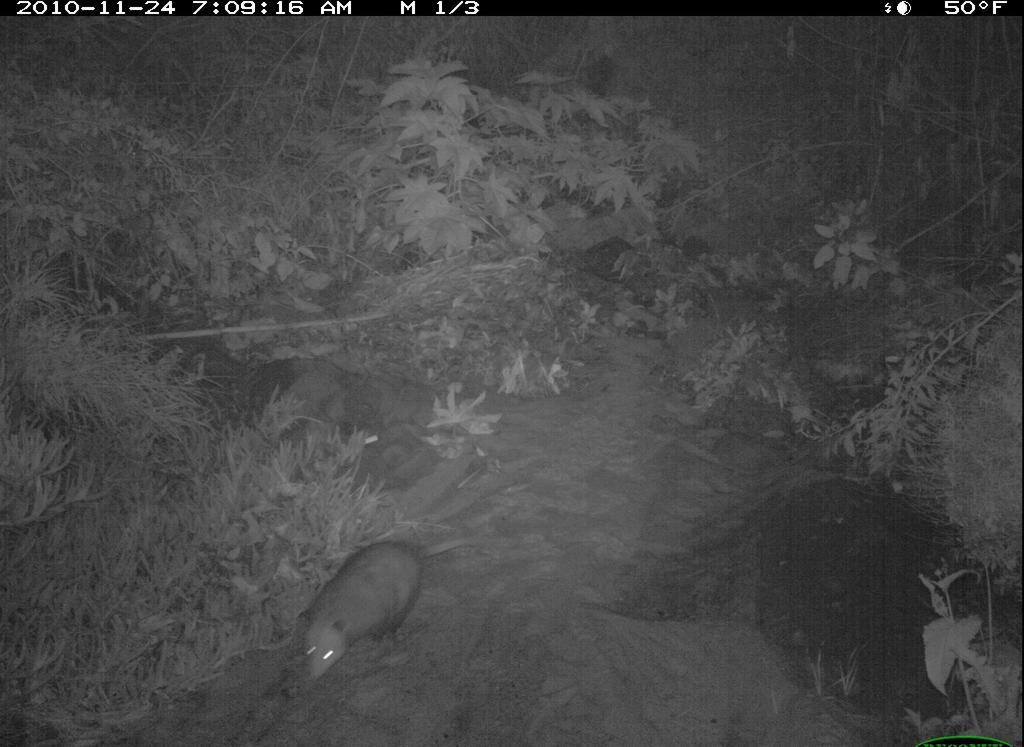opossum: (285, 525, 482, 694)
